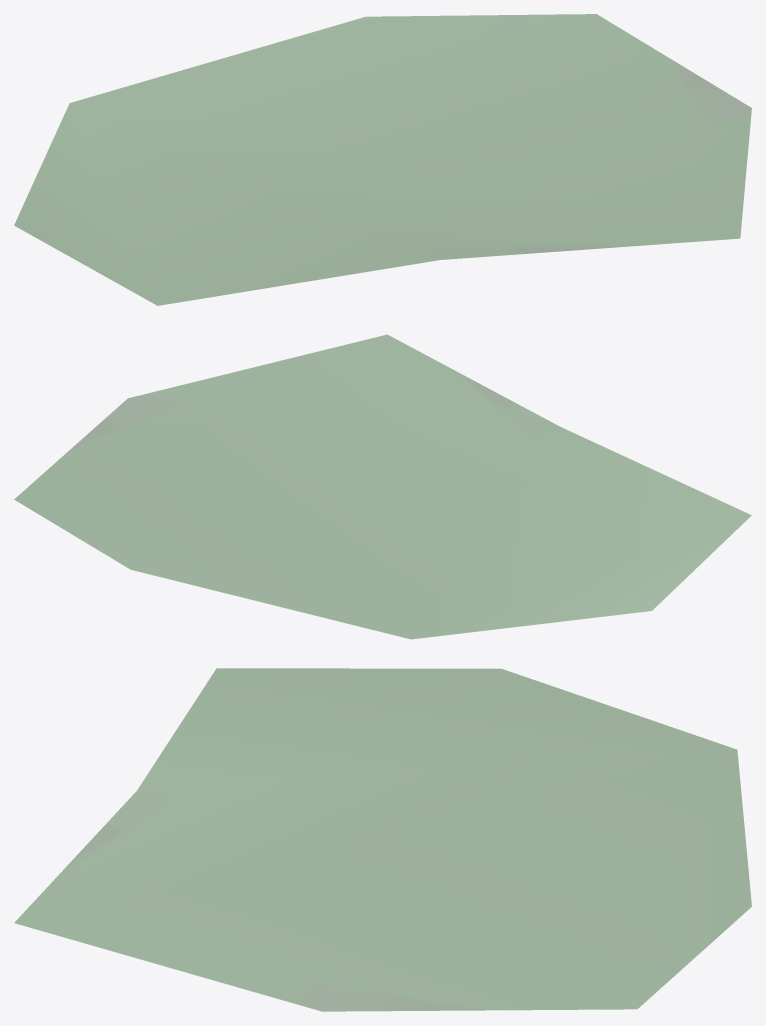
File: TROLLHOLE02_HOLECAP26.fbx
3 views of the same model, one above another, from view 1: azimuth 30°, elevation 25°; view 2: azimuth 150°, elevation 25°; view 3: azimuth 270°, elevation 25° (orthographic). The views are drawn at different scales.
Visible parts, largest first — view 1: TROLLHOLE02_HOLECAP26; view 2: TROLLHOLE02_HOLECAP26; view 3: TROLLHOLE02_HOLECAP26.
Boxes of the visible parts, x1,y1,x2,y2 form: TROLLHOLE02_HOLECAP26: (14, 14, 751, 305); TROLLHOLE02_HOLECAP26: (14, 334, 751, 639); TROLLHOLE02_HOLECAP26: (14, 668, 751, 1011).
Size of the model in its own units: 22476 by 709 by 19455.
1 material, 1 textured.
